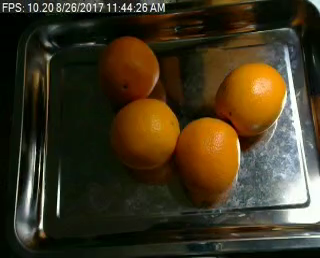Orange: (215, 63, 287, 136), (176, 117, 241, 195), (108, 100, 180, 170), (101, 36, 159, 100)
